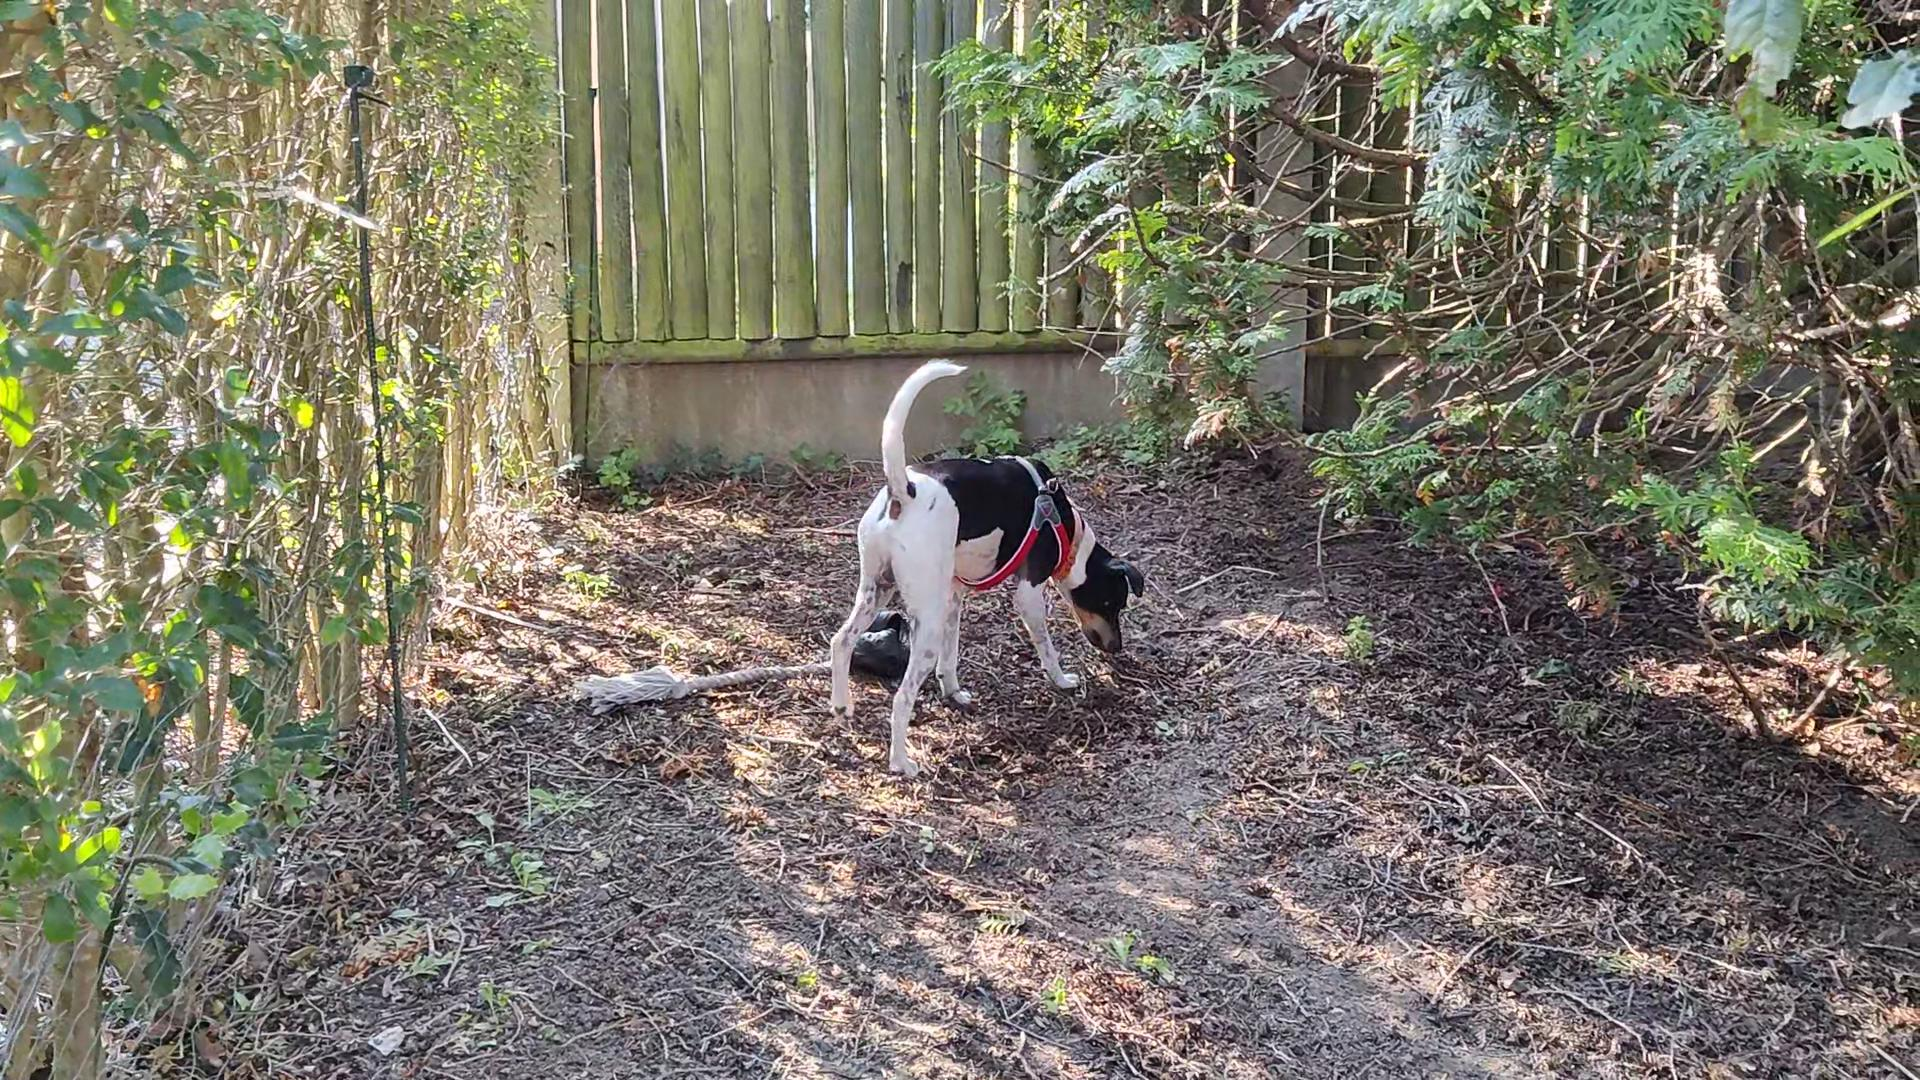Dog: (818, 344, 1150, 787)
